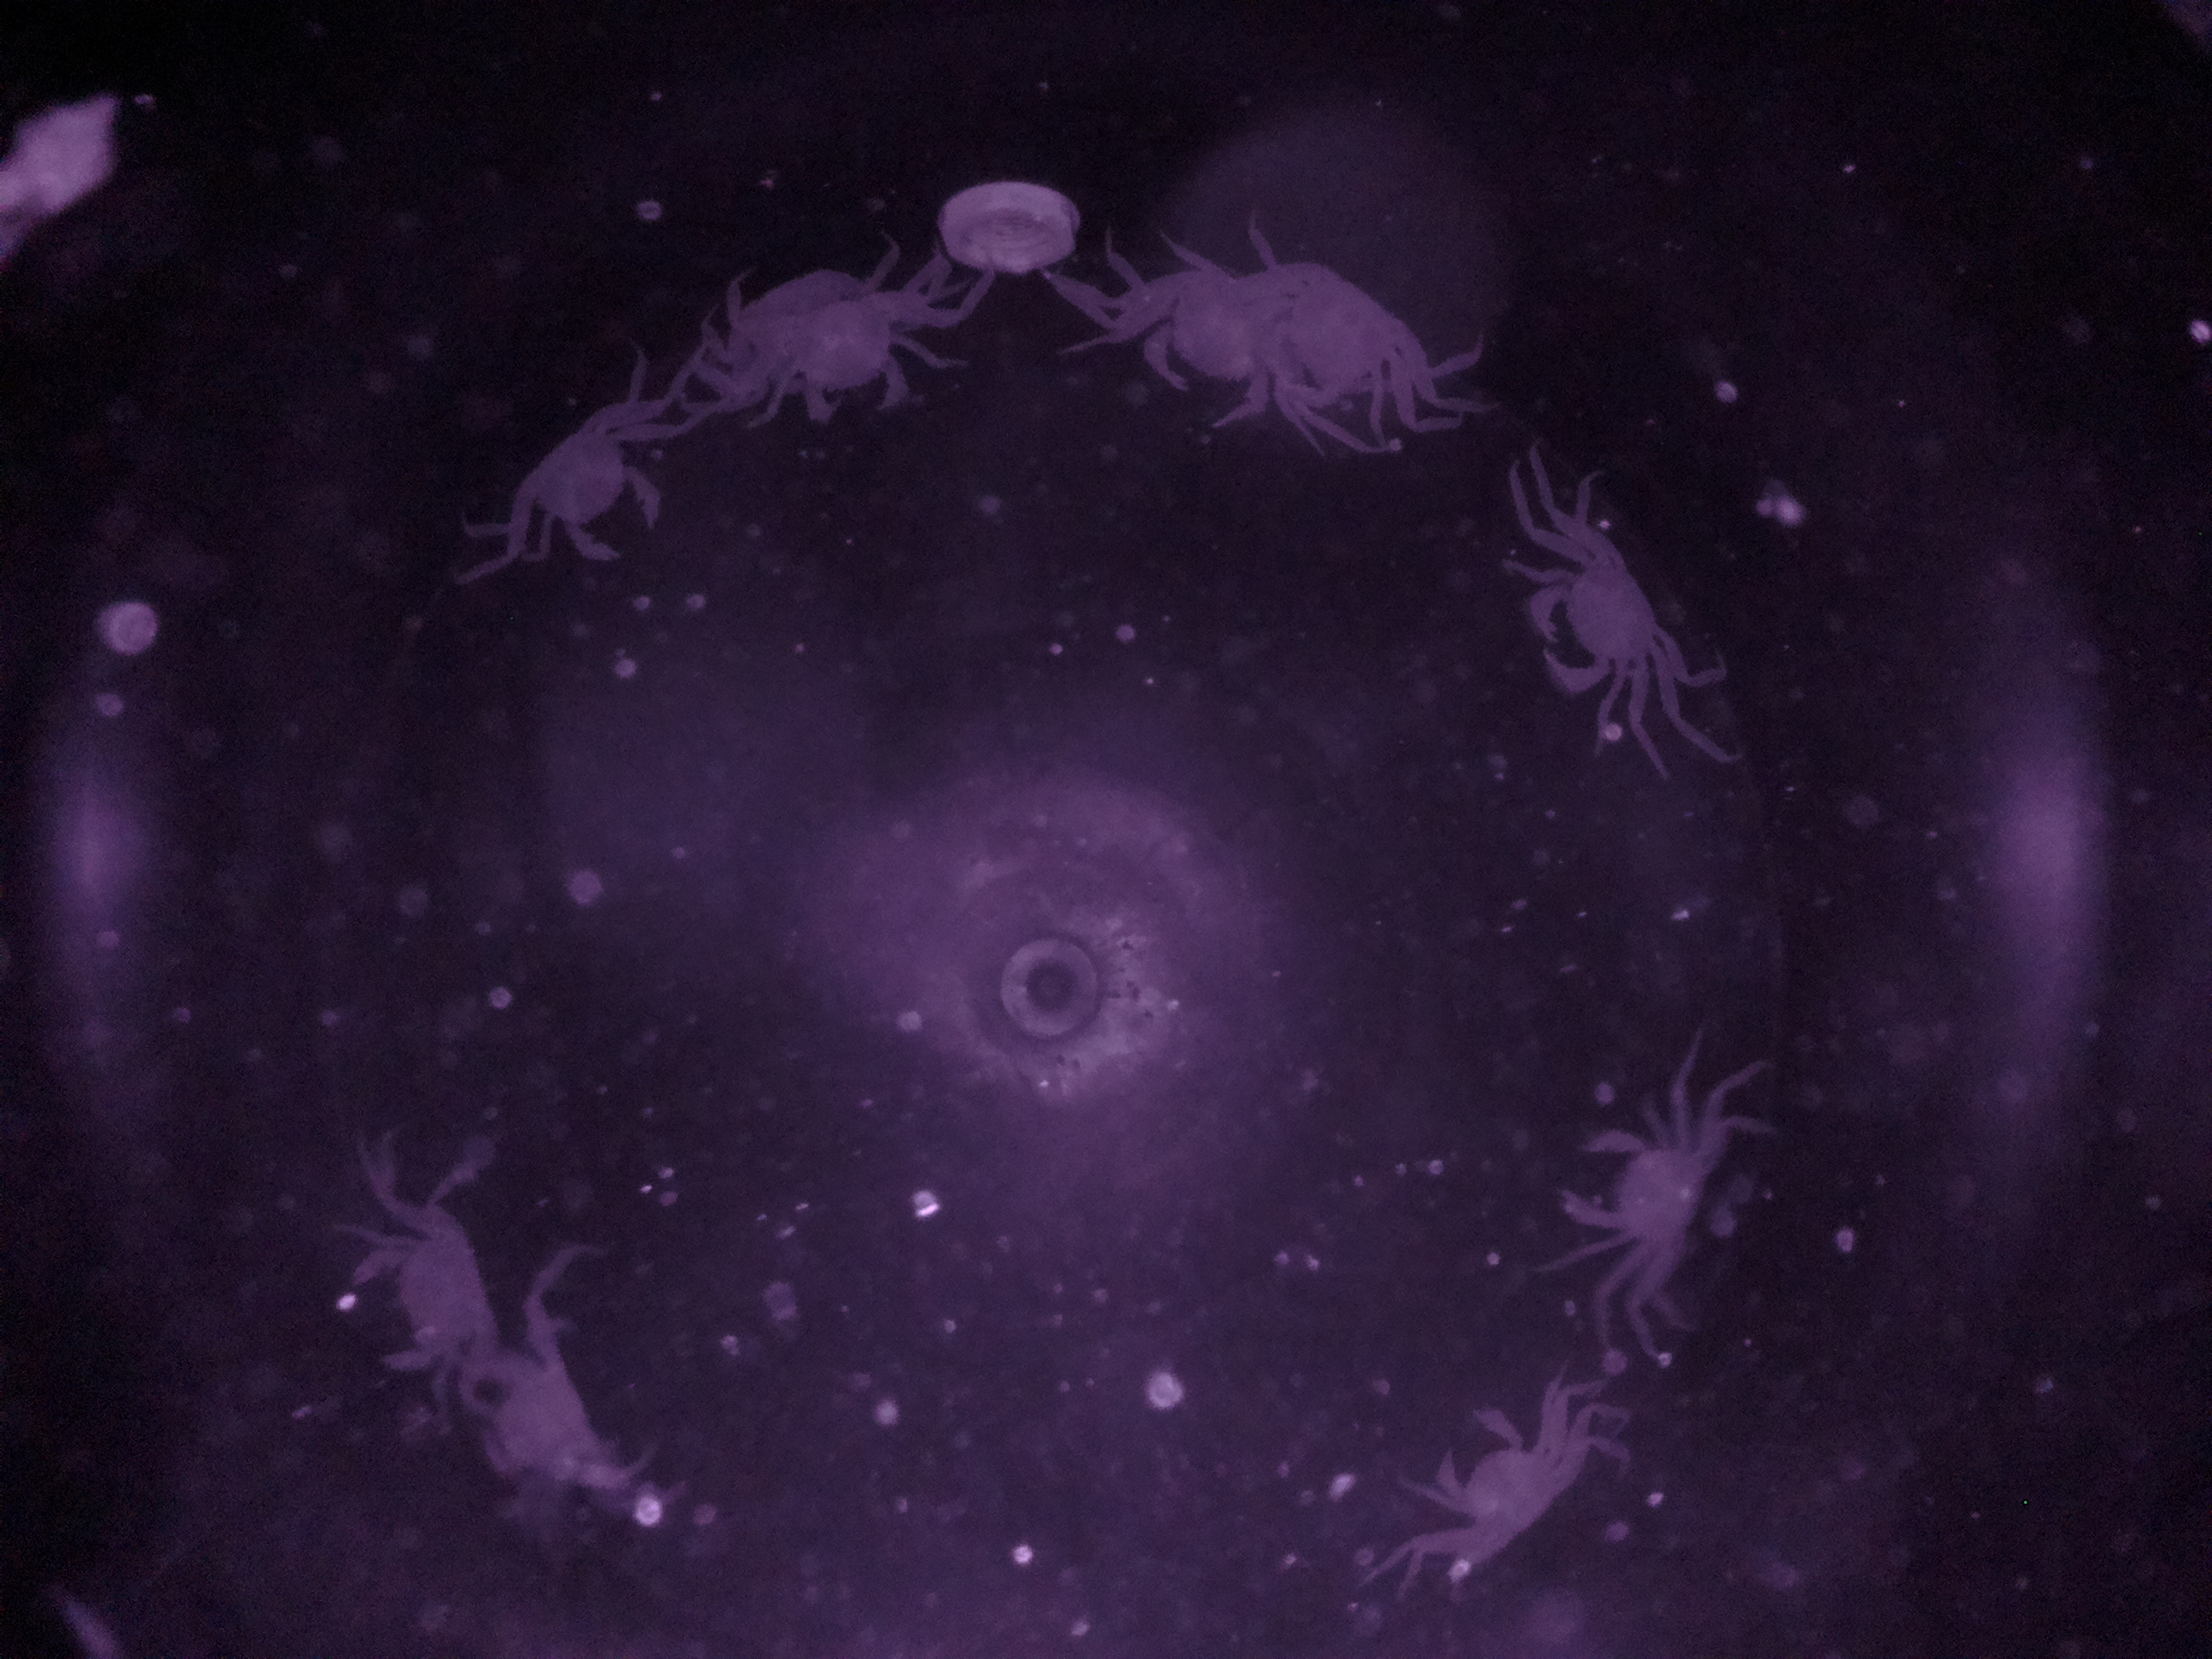Crab: (1508, 498, 1693, 737), (1420, 1394, 1594, 1588), (510, 397, 674, 580)
